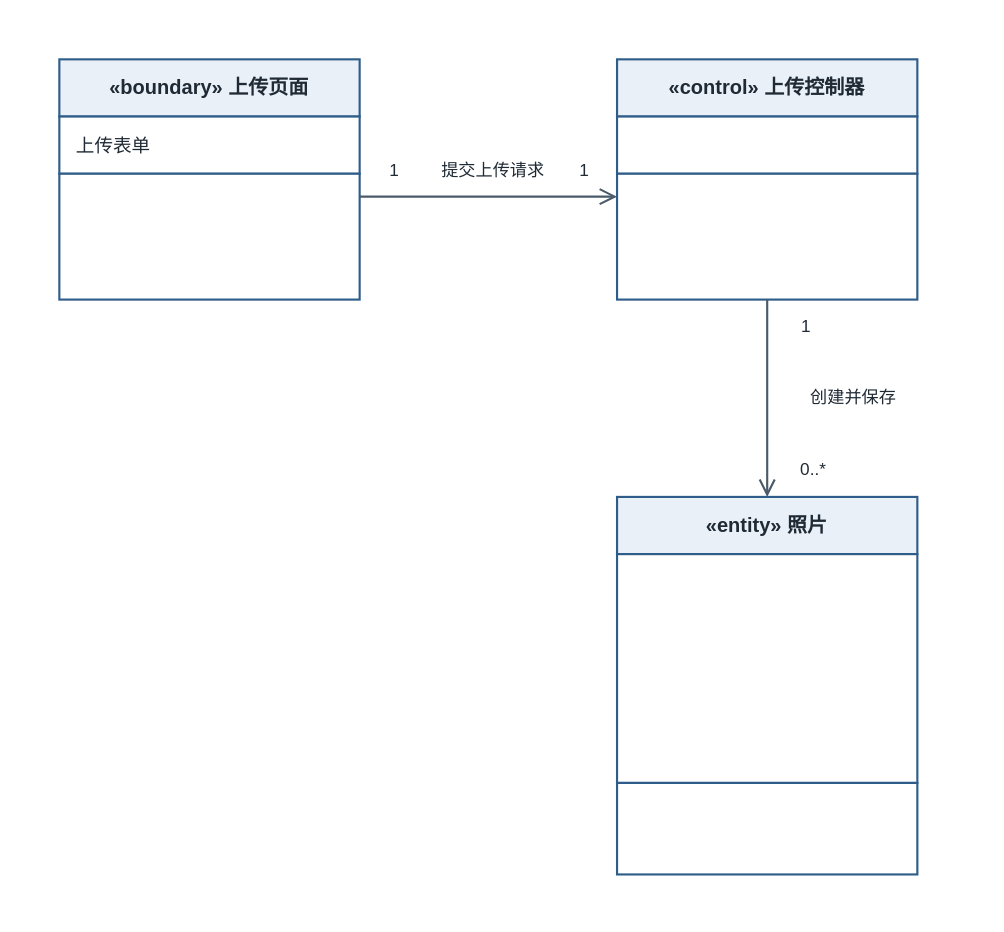
The diagram is 1004 pixels wide and 932 high, and some of its shapes have lost their labels. The centre of each missing label's shape, as x and y in pixels:
保存() 获取详情(): pixel 766 828
显示文件选择窗口() 提示错误信息() 显示上传结果(): pixel 209 236
校验格式与大小() 保存文件并生成缩略图() 记录上传信息(): pixel 766 236
照片编号 文件路径 缩略图路径 所属相册 上传者 上传时间: pixel 766 667
